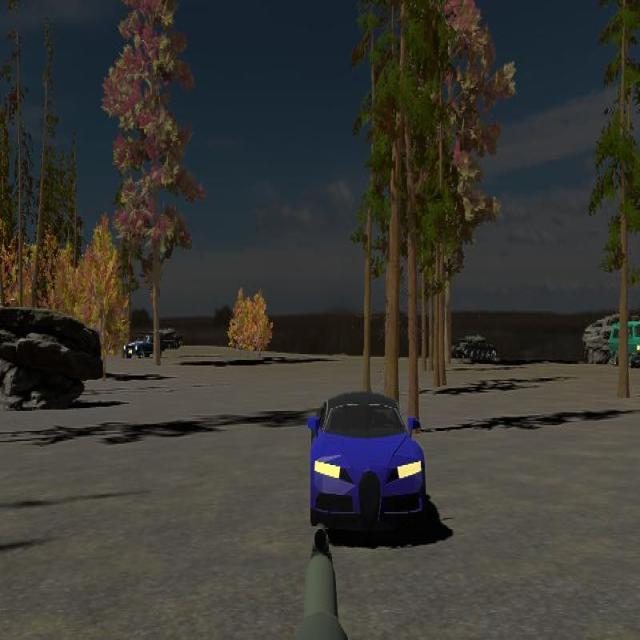Tank: (139, 324, 183, 351)
car: (309, 392, 427, 528), (609, 319, 640, 367)
